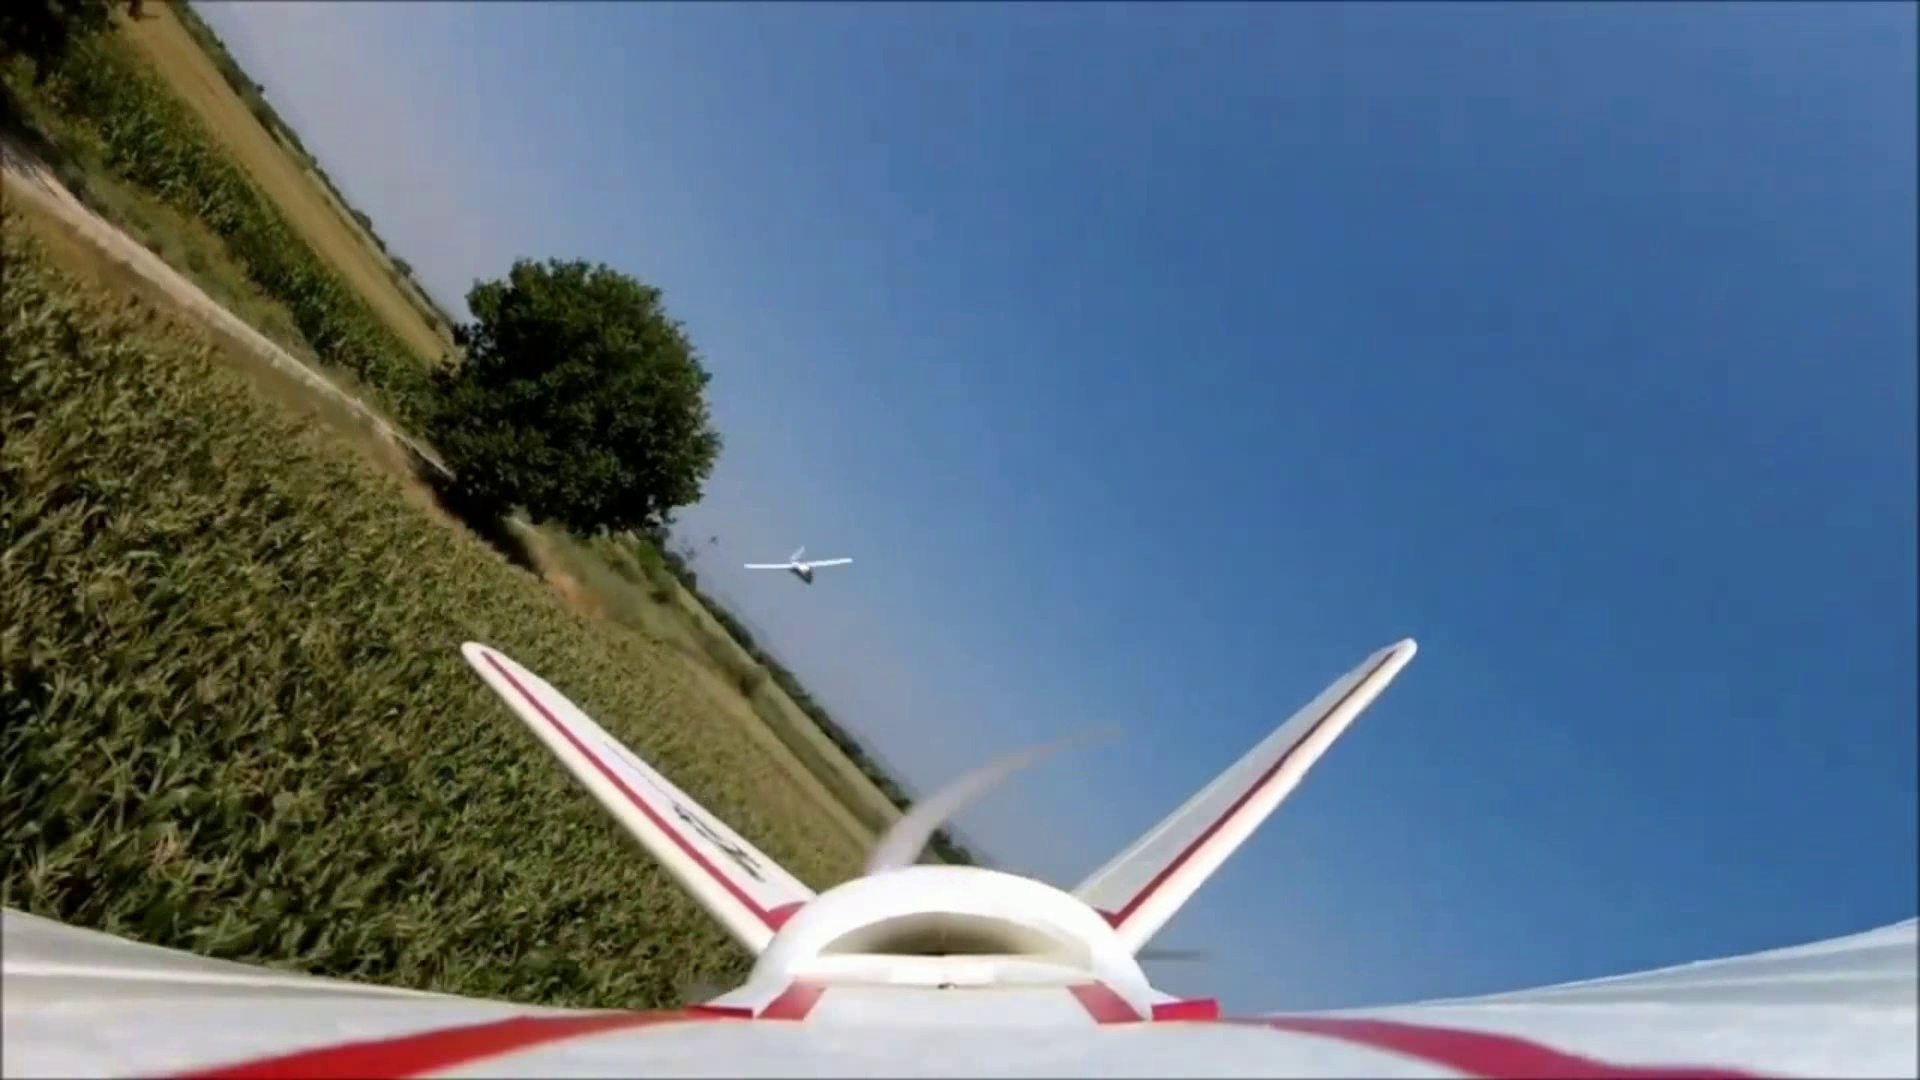airplane: (755, 550, 855, 584)
